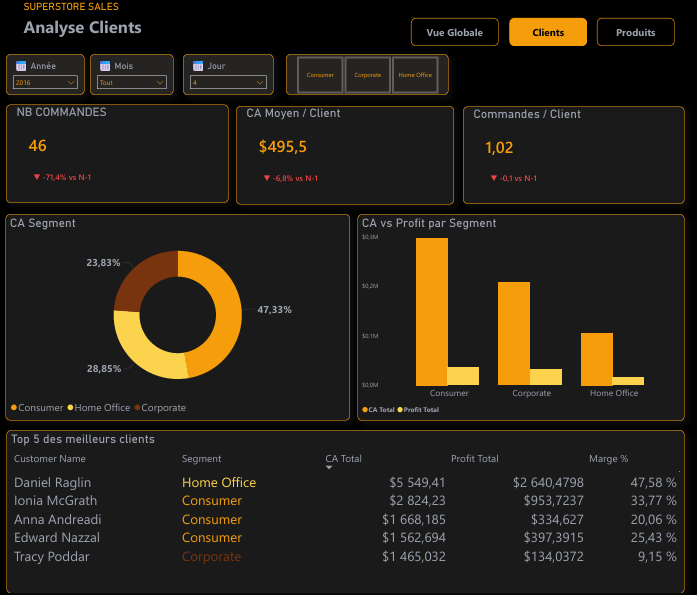

The page's visual inventory and layout, read from the dashboard file:
{"tool":"powerbi","page":{"name":"Page 2","canvas":[1400,1200],"ordinal":1},"visuals":[{"type":"shape","title":"SUPERSTORE SALES","box":[47.3,0,300.2,89.2],"z":0},{"type":"cardVisual","title":"CA Moyen / Client","fields":{"Data":["_Mesures.CA Moyen Client"]},"box":[472.2,210.4,436.3,196.7],"z":1000},{"type":"slicer","fields":{"Values":["Calendrier.Année"]},"box":[12,106.1,157.4,82.1],"z":2000},{"type":"slicer","fields":{"Values":["Calendrier.Mois"]},"box":[179.6,106.1,167.7,82.1],"z":3000},{"type":"slicer","fields":{"Values":["Calendrier.Jour"]},"box":[366.1,106.1,181.3,82.1],"z":4000},{"type":"cardVisual","title":"NB COMMANDES","fields":{"Data":["_Mesures.Nb Commandes"]},"box":[12,207,444.8,196.7],"z":5000},{"type":"clusteredColumnChart","title":"CA vs Profit par Segment","fields":{"Category":["Sample - Superstore.Segment"],"Y":["_Mesures.CA Total","_Mesures.Profit Total"]},"box":[715.1,426,653.5,414],"z":6000},{"type":"donutChart","title":"CA Segment","fields":{"Y":["_Mesures.CA Total"],"Category":["Sample - Superstore.Segment"]},"box":[11.4,425.7,688.4,413.1],"z":7000},{"type":"tableEx","title":"Top 5 des meilleurs clients","fields":{"Values":["Sample - Superstore.Customer Name","Sample - Superstore.Segment","_Mesures.CA Total","_Mesures.Profit Total","_Mesures.Marge %"]},"box":[12.7,858.2,1356.4,327.3],"z":8000},{"type":"shape","box":[822.4,34,174.7,55.8],"z":9000},{"type":"shape","box":[1018.9,34,155.3,55.8],"z":10000},{"type":"shape","box":[1193.6,34,155.3,55.8],"z":11000},{"type":"slicer","fields":{"Values":["Sample - Superstore.Segment"]},"box":[572.2,106.1,324.6,82.1],"z":12000},{"type":"cardVisual","title":"Commandes / Client","fields":{"Data":["_Mesures.Commandes Par Client"]},"box":[926.2,210.5,442.8,196],"z":13000}]}

Visuals, with their boxes in screenshot pixels (x1, y1, x2, y2), scaled from the page's 1400x1200 canvas onto the 697x595 screenshot:
"SUPERSTORE SALES" shape: {"x1": 24, "y1": 0, "x2": 173, "y2": 44}
"CA Moyen / Client" cardVisual: {"x1": 235, "y1": 104, "x2": 452, "y2": 202}
slicer - Calendrier.Année: {"x1": 6, "y1": 53, "x2": 84, "y2": 93}
slicer - Calendrier.Mois: {"x1": 89, "y1": 53, "x2": 173, "y2": 93}
slicer - Calendrier.Jour: {"x1": 182, "y1": 53, "x2": 273, "y2": 93}
"NB COMMANDES" cardVisual: {"x1": 6, "y1": 103, "x2": 227, "y2": 200}
"CA vs Profit par Segment" clusteredColumnChart: {"x1": 356, "y1": 211, "x2": 681, "y2": 416}
"CA Segment" donutChart: {"x1": 6, "y1": 211, "x2": 348, "y2": 416}
"Top 5 des meilleurs clients" tableEx: {"x1": 6, "y1": 426, "x2": 682, "y2": 588}
shape: {"x1": 409, "y1": 17, "x2": 496, "y2": 45}
shape: {"x1": 507, "y1": 17, "x2": 585, "y2": 45}
shape: {"x1": 594, "y1": 17, "x2": 672, "y2": 45}
slicer - Sample - Superstore.Segment: {"x1": 285, "y1": 53, "x2": 446, "y2": 93}
"Commandes / Client" cardVisual: {"x1": 461, "y1": 104, "x2": 682, "y2": 202}
